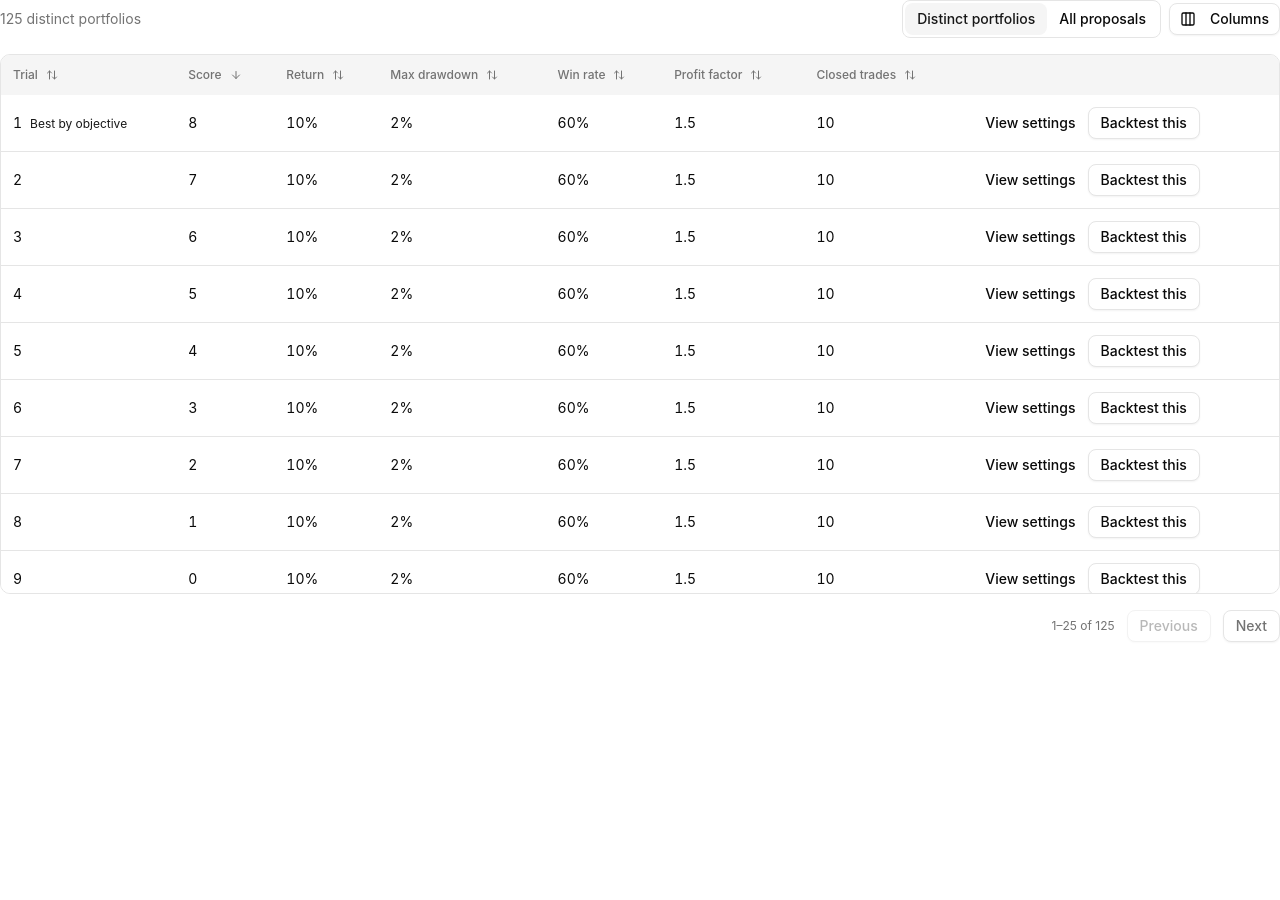
Test: optimization trial comparison › opens the exact paginated trial in a dialog and restores focus without losing table position
The image size is (1280, 900).
Click the button "Next": (1251, 626) 1223,610 -> 1279,642
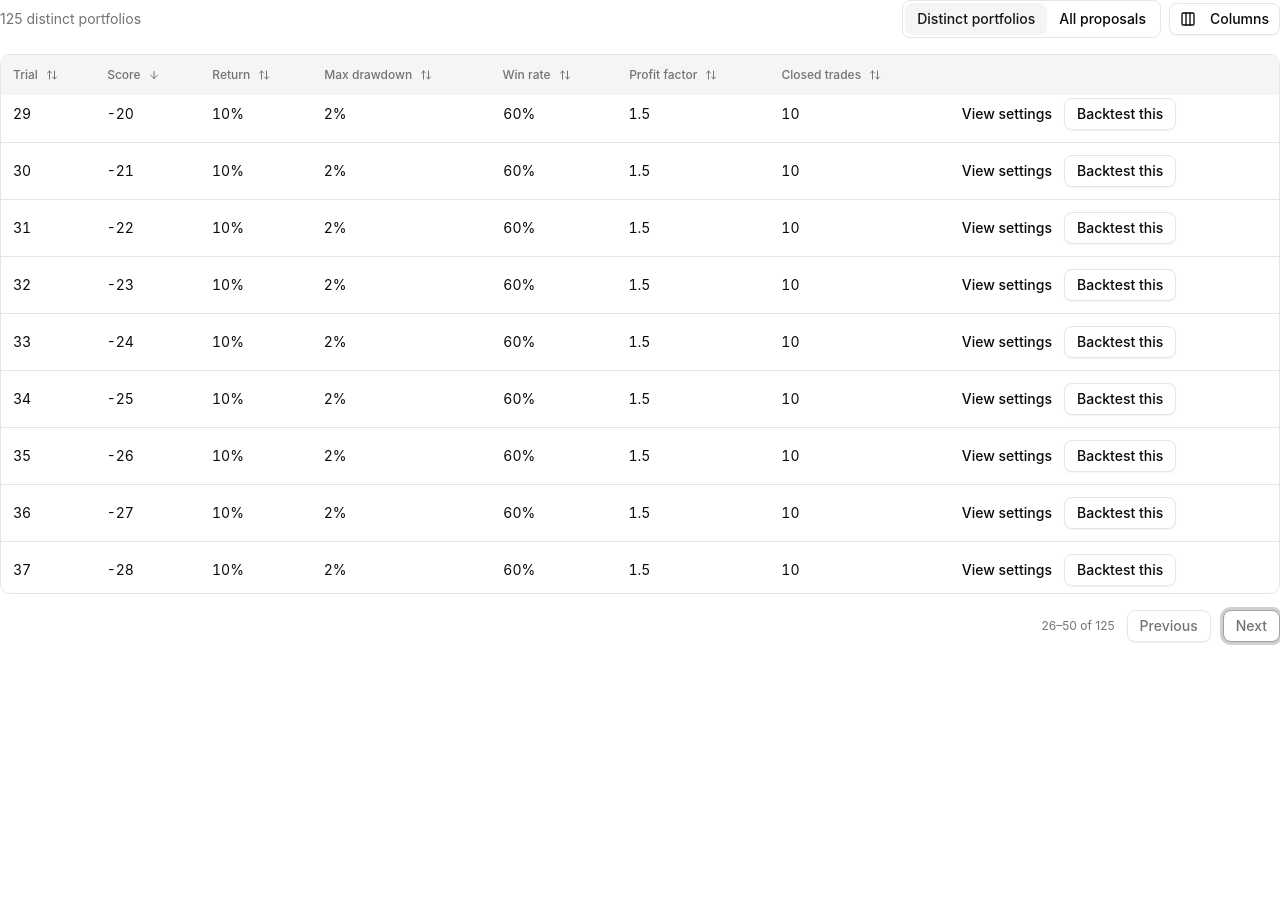
Result: the text "26–50 of 125" is shown at 1041,618 -> 1115,634
Click the button "View settings" in the row of "33": (1007, 342) 950,326 -> 1064,358
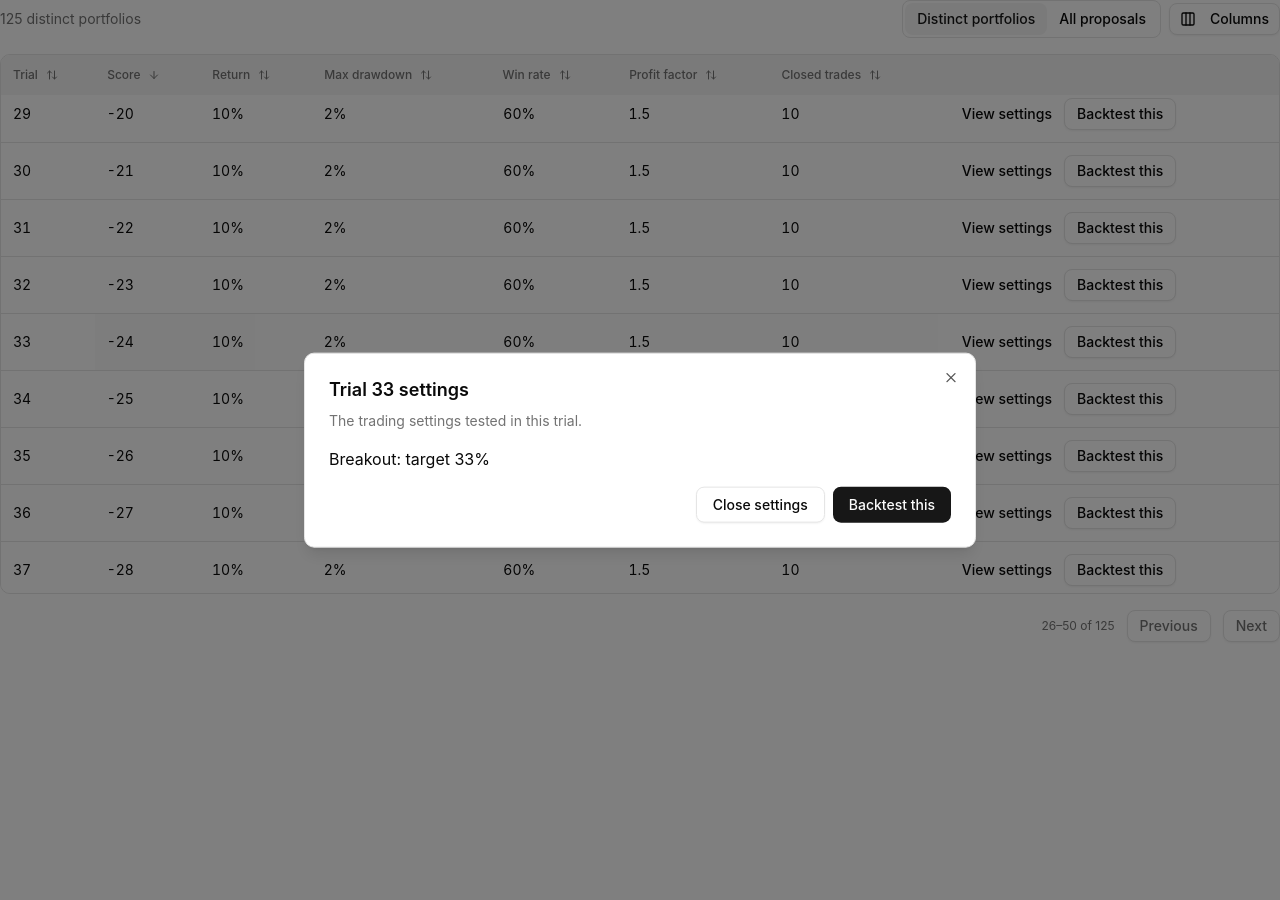
Result: the text "Breakout: target 33%" is shown at 329,448 -> 490,468
Press Escape
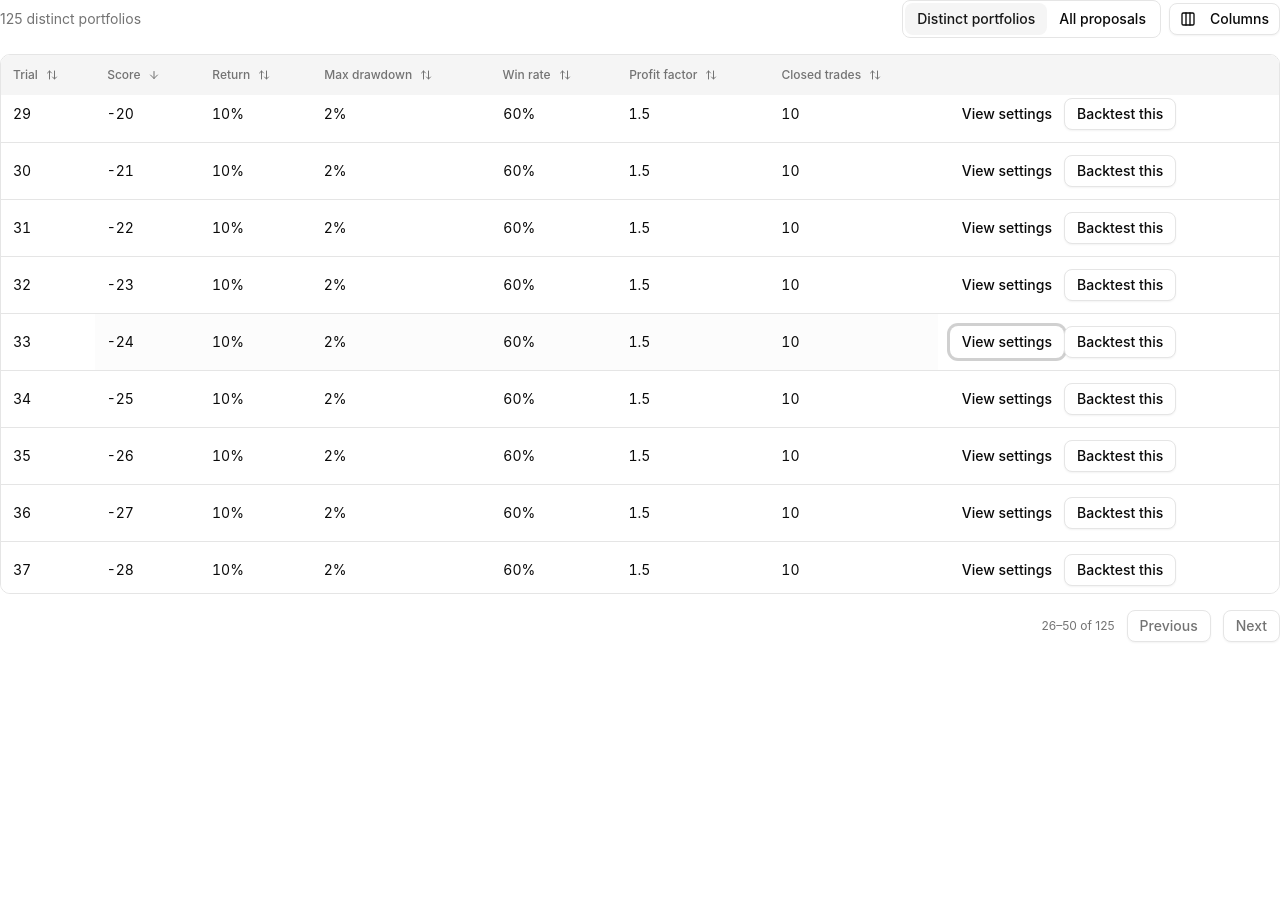
Result: the text "26–50 of 125" is shown at 1041,618 -> 1115,634
Result: the dialog is gone
